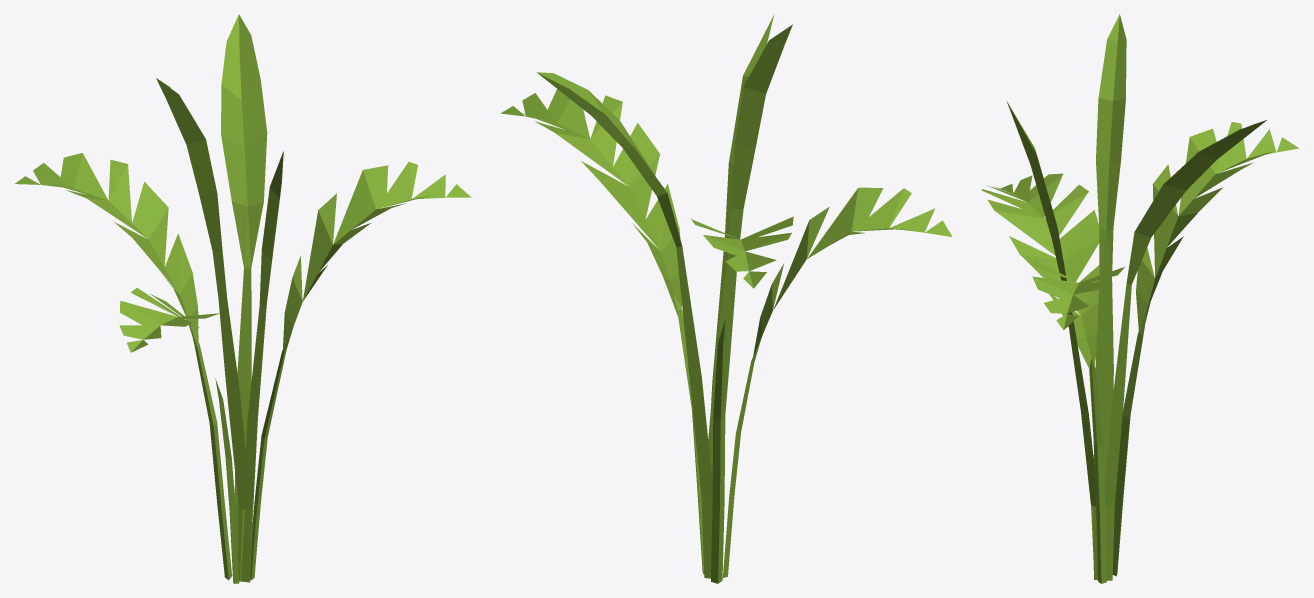
File: tree-palm-sapling-a.gltf
The picture shows the model from 3 angles, left to right: view 1: azimuth 30°, elevation 25°; view 2: azimuth 150°, elevation 25°; view 3: azimuth 270°, elevation 25°; orthographic projection. The views are drawn at different scales.
Parts seen in each view (by area): view 1: tree-palm-sapling-a; view 2: tree-palm-sapling-a; view 3: tree-palm-sapling-a.
Boxes of the visible parts, x1=… form: tree-palm-sapling-a: x1=15, y1=14, x2=471, y2=583; tree-palm-sapling-a: x1=500, y1=14, x2=952, y2=583; tree-palm-sapling-a: x1=981, y1=14, x2=1299, y2=583.
Bounding box in the file's own units: 0.0131 × 0.0174 × 0.00954.
